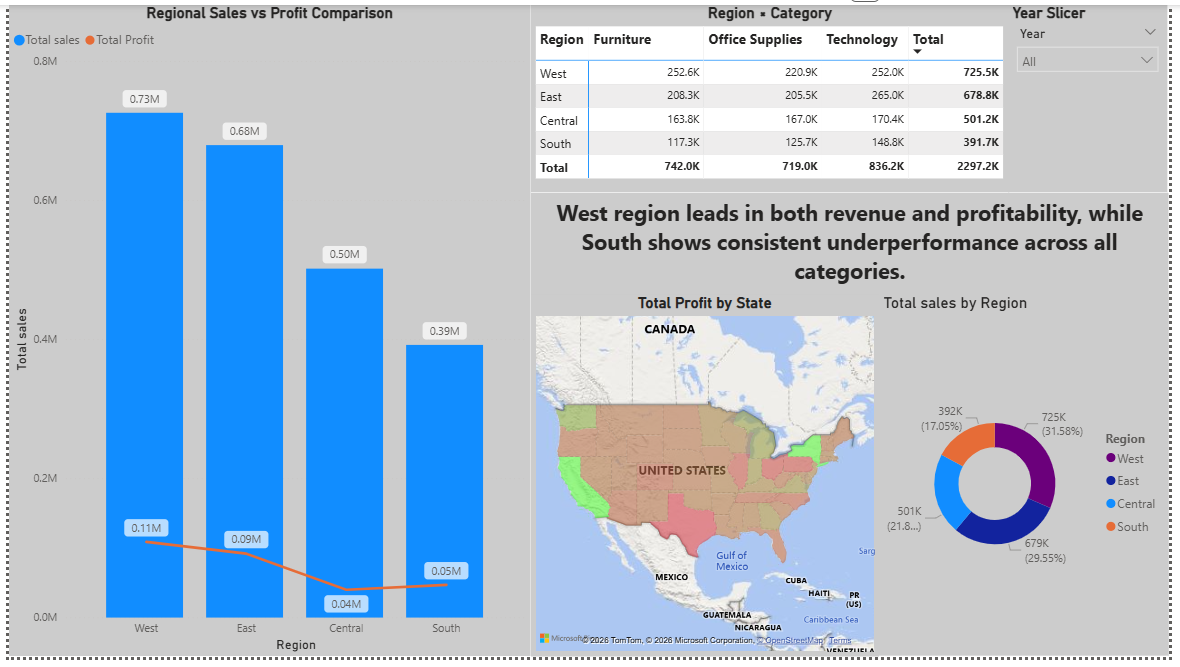

This screenshot's page, from the dashboard's own definition file:
{"tool":"powerbi","page":{"name":"Regional Performance","canvas":[1280,720],"ordinal":2},"visuals":[{"type":"lineClusteredColumnComboChart","title":"Regional Sales vs Profit Comparison","fields":{"Category":["Superstore.Region"],"Y":["Superstore.Total sales"],"Y2":["Superstore.Total Profit"]},"box":[0,0,576,720],"z":0},{"type":"pivotTable","title":"Region × Category","fields":{"Rows":["Superstore.Region"],"Columns":["Superstore.Category"],"Values":["Superstore.Total sales"]},"box":[576,0,528,208],"z":1000},{"type":"slicer","title":"Year Slicer","fields":{"Values":["Superstore.Year"]},"box":[1104,0,176,208],"z":2000},{"type":"filledMap","fields":{"Category":["Superstore.State"]},"box":[576,320,384,400],"z":3000},{"type":"textbox","box":[576,208,704,112],"z":4000},{"type":"donutChart","fields":{"Category":["Superstore.Region"],"Y":["Superstore.Total sales"]},"box":[960,320,320,400],"z":5000}]}

Visuals, with their boxes in screenshot pixels (x1, y1, x2, y2), scaled from the page's 1280x720 canvas onto the 1180x667 screenshot:
"Regional Sales vs Profit Comparison" lineClusteredColumnComboChart: box=[0, 0, 531, 666]
"Region × Category" pivotTable: box=[531, 0, 1018, 193]
"Year Slicer" slicer: box=[1018, 0, 1179, 193]
filledMap - Superstore.State: box=[531, 296, 885, 666]
textbox: box=[531, 193, 1179, 296]
donutChart - Superstore.Region x Superstore.Total sales: box=[885, 296, 1179, 666]
